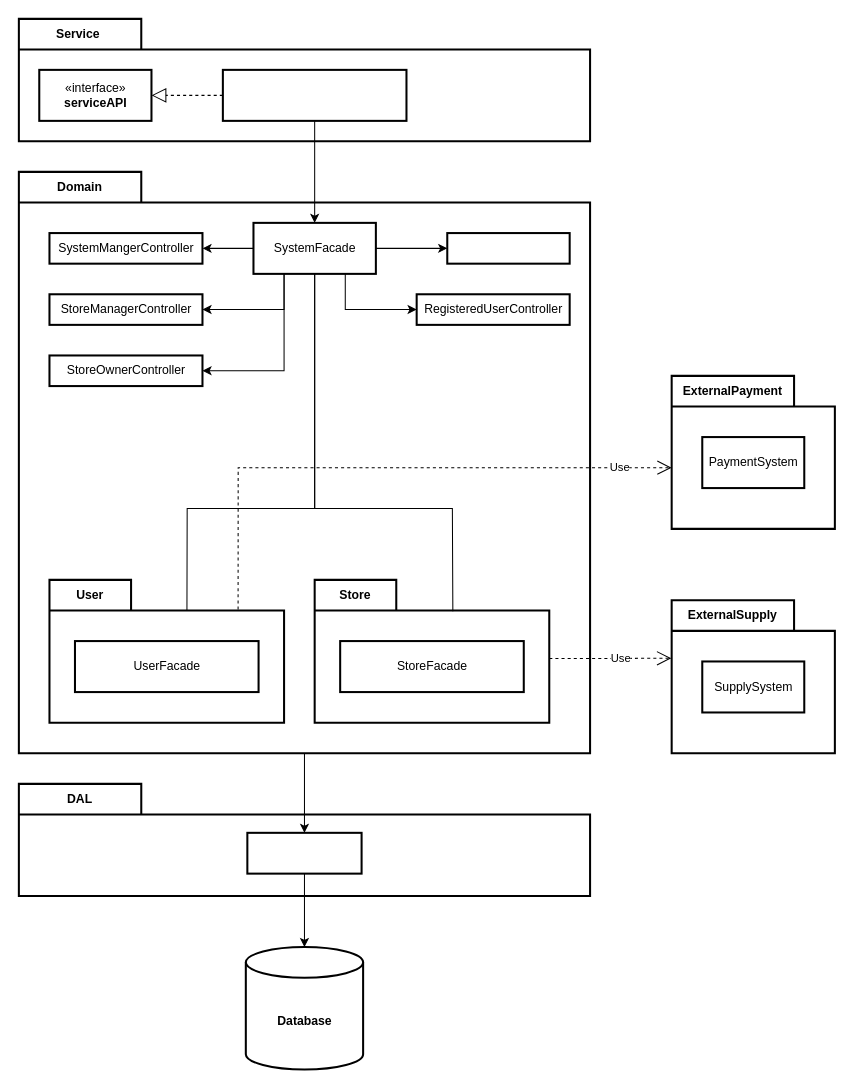
Some shapes in this 853 by 1087 pixel diagram are drawn without their labels. Here are the shapes that lost their labels. From the top down, the centre of each, then its label:
At point (314, 94): "SystemServiceAPI".
At point (508, 248): "GuestController".
At point (304, 852): "MapperHandler".
